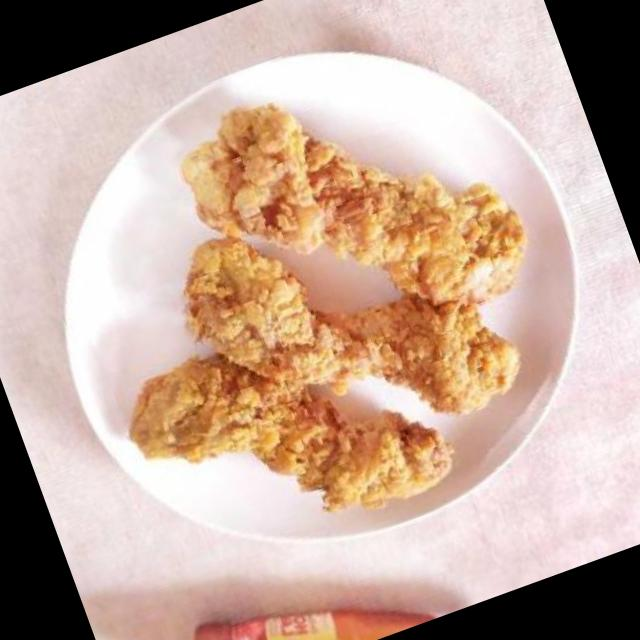Fried Chicken: (130, 103, 528, 511)
